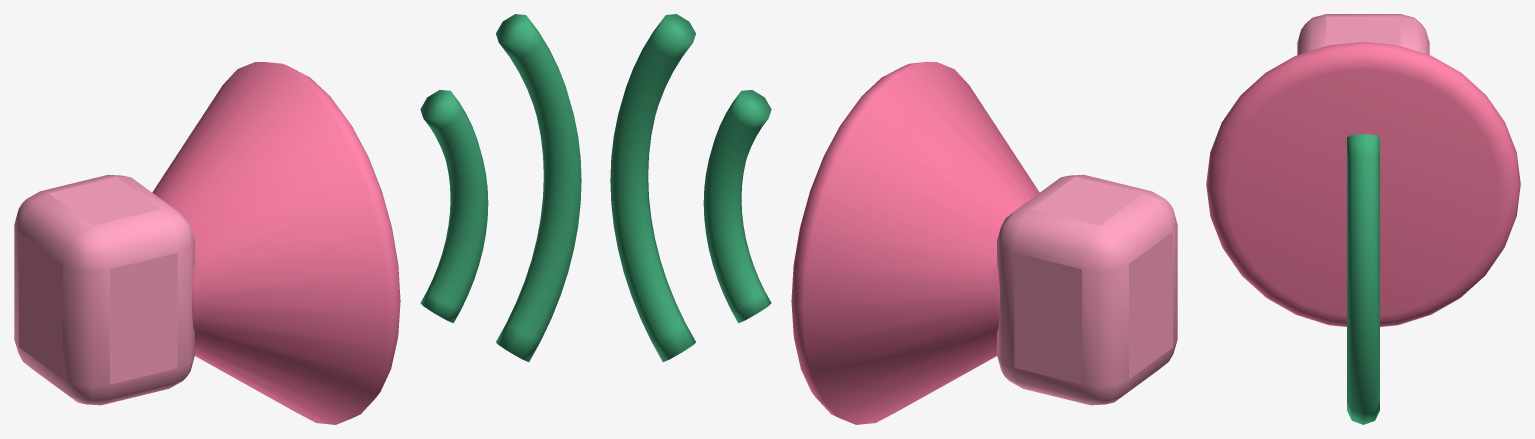
File: speaker.glb
3 views of the same model, side by side, from view 1: azimuth 30°, elevation 25°; view 2: azimuth 150°, elevation 25°; view 3: azimuth 270°, elevation 25° (orthographic). The views are drawn at different scales.
Visible parts, largest first — view 1: cone, box, c3fae7a; view 2: cone, box, c3fae7a; view 3: cone, c3fae7a, box.
Part boxes in pixels (x1,y1,x2,y2): cone: (152, 62, 400, 424); box: (14, 174, 194, 405); c3fae7a: (420, 14, 581, 361); cone: (791, 62, 1039, 424); box: (997, 174, 1177, 405); c3fae7a: (610, 14, 771, 361); cone: (1206, 41, 1520, 326); c3fae7a: (1347, 134, 1379, 424); box: (1297, 14, 1429, 54).
Bounding box in the file's own units: 1.27 × 0.7759 × 0.76.
